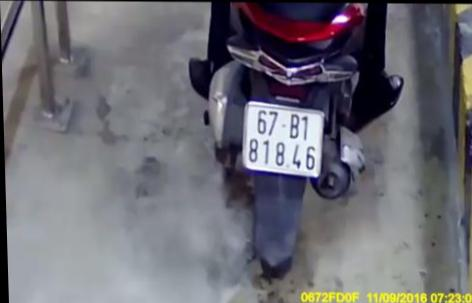LP: (240, 100, 328, 178)
